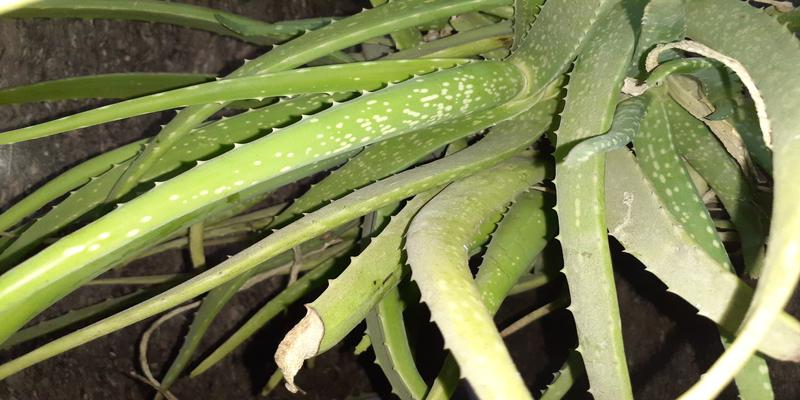Aloevera: (142, 22, 751, 343)
